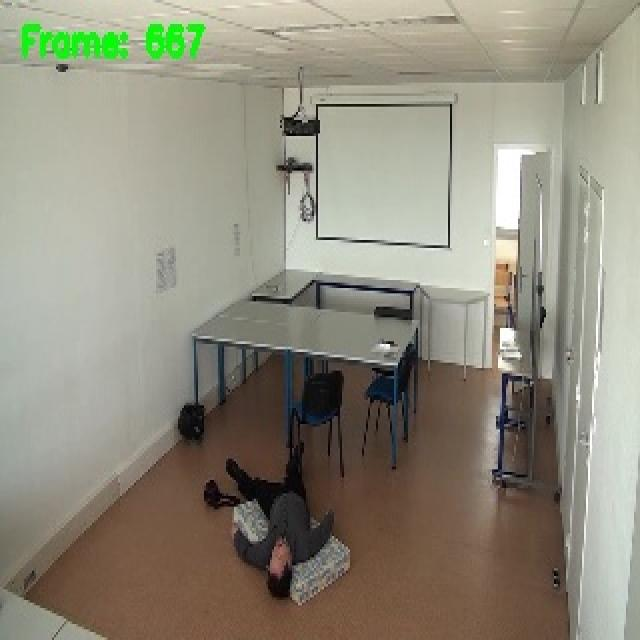Fall-Detected: (224, 438, 337, 604)
